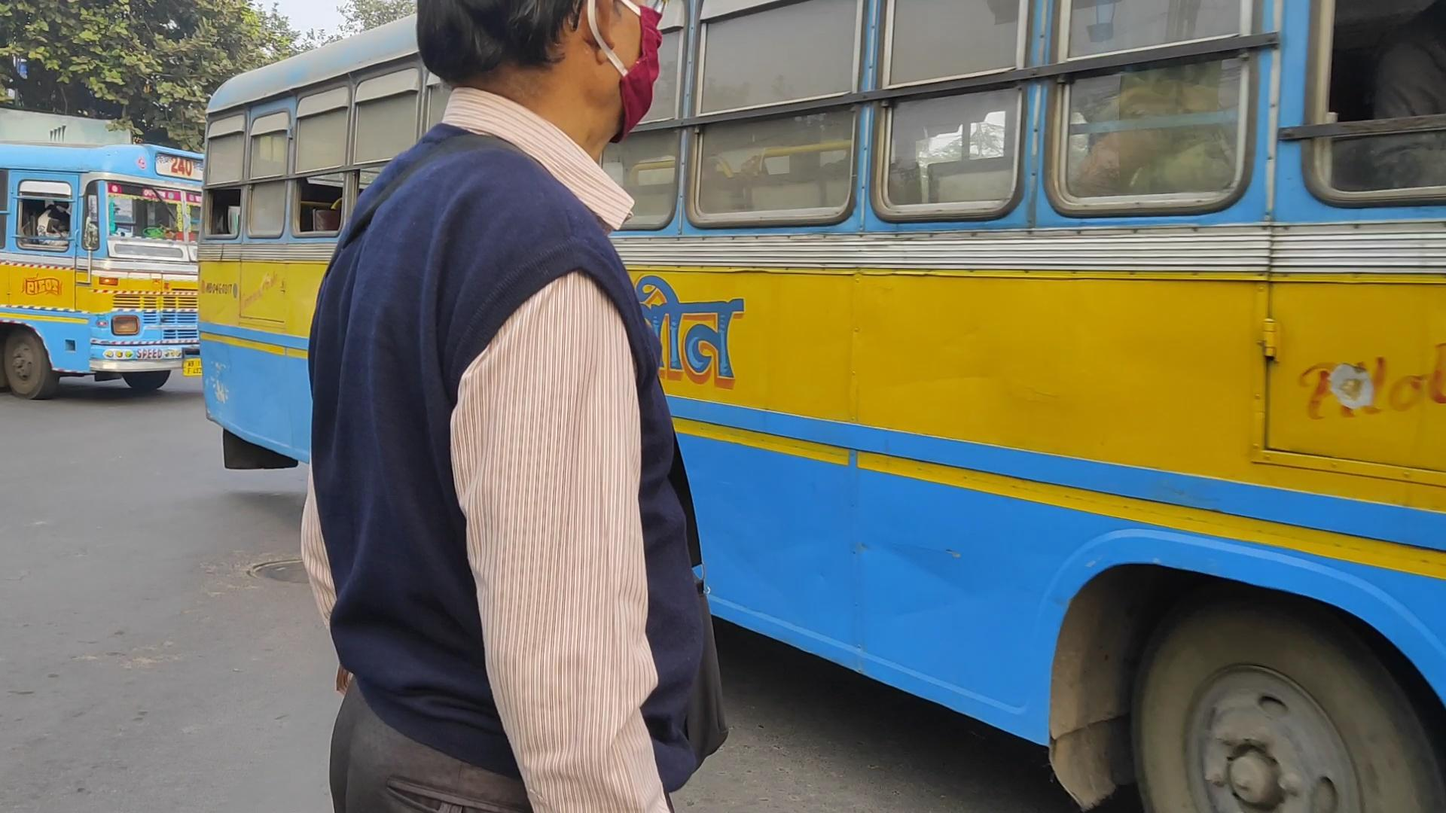Bus: (193, 2, 1446, 813), (1, 138, 204, 403)
